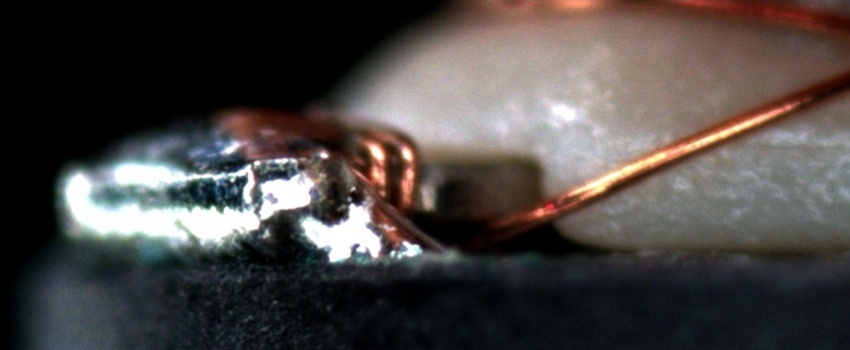DL: (700, 111, 849, 170)
TE: (327, 111, 427, 228)
